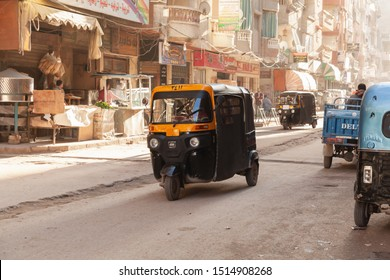threewheel: (142, 84, 260, 201), (275, 90, 317, 129)
